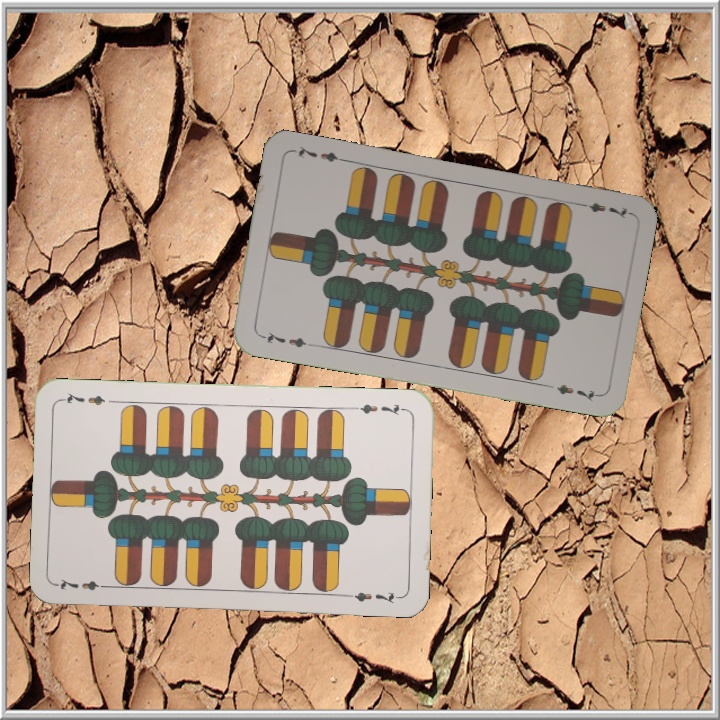E7: (256, 327, 314, 351), (573, 198, 632, 221), (349, 399, 408, 419), (54, 574, 113, 593)
